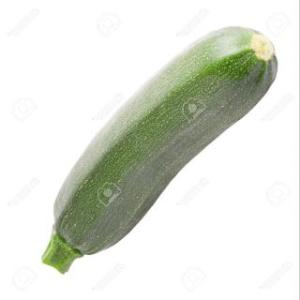zucchini: (36, 29, 286, 272)
